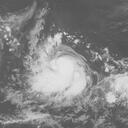cyclone: (28, 49, 89, 103)
